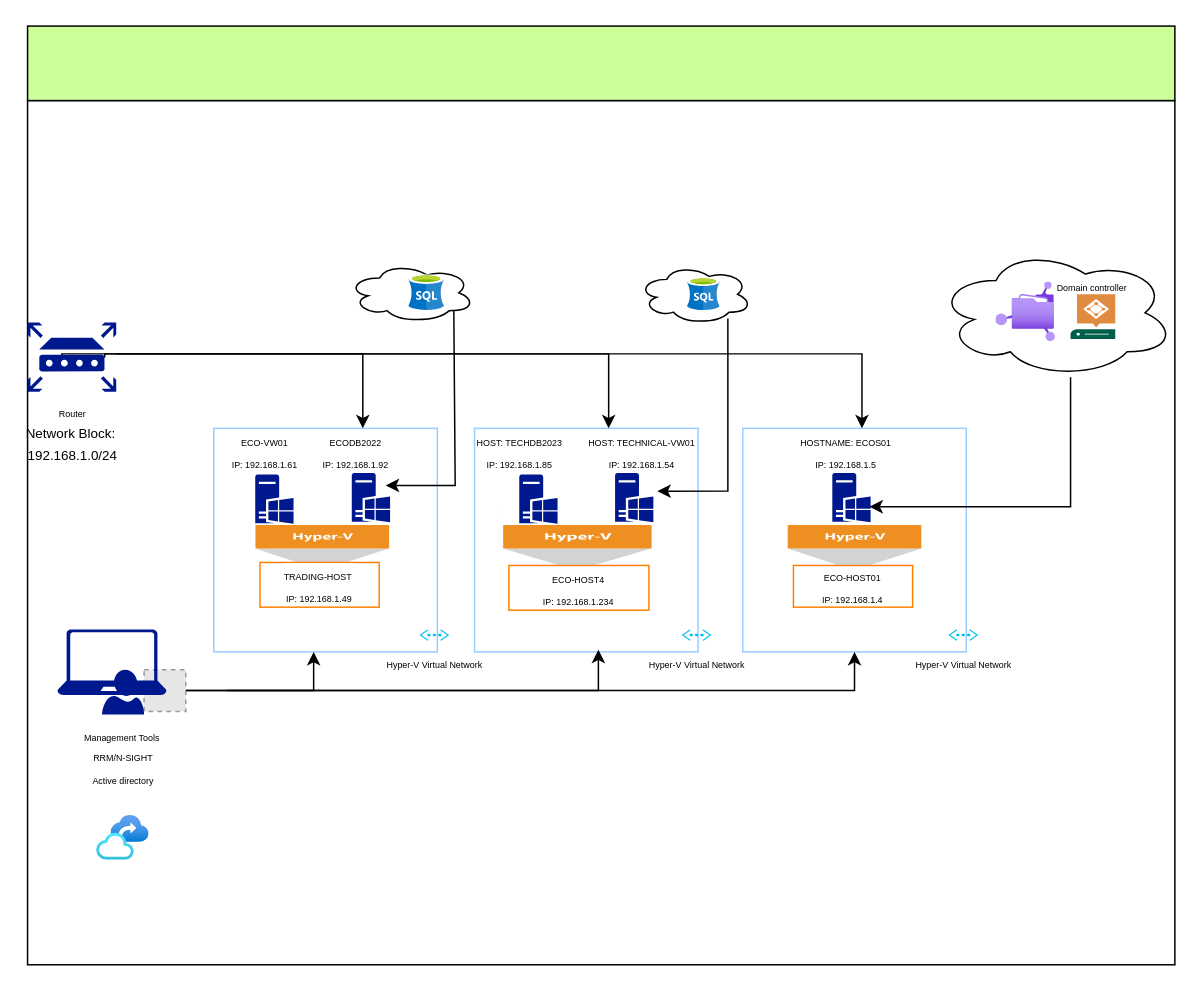
Some shapes in this 1202 by 991 pixel diagram are drawn without their labels. Grey dashed boxes stand in for pictures. The centre of each missing label's shape, as x and y in pixels:
"ECOMED SERVER NETWORK ARCHITCTURE" goes at [600,63].
"File Server" goes at [1025,311].
"ShadowProtect Backup" goes at [122,837].
